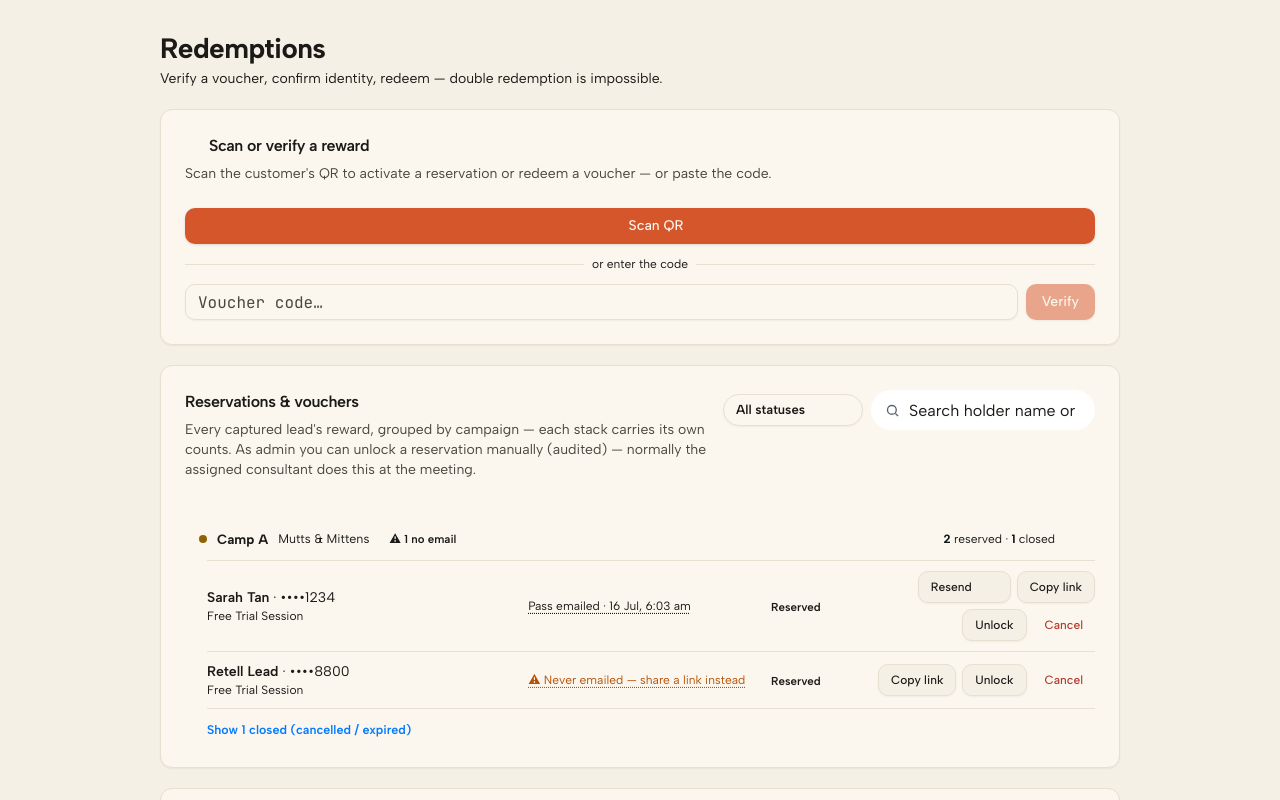
RedemptionsPage campaign stacks + delivery truth › collapses cancelled/expired rows behind the per-stack closed link
Expected: the text "Sarah Tan" is shown, [207,589,269,606]
Expected: the text "Gone Lead" is not shown
Click the button "Show 1 closed (cancelled / expired)" at (309, 731), box [207,721,411,740]
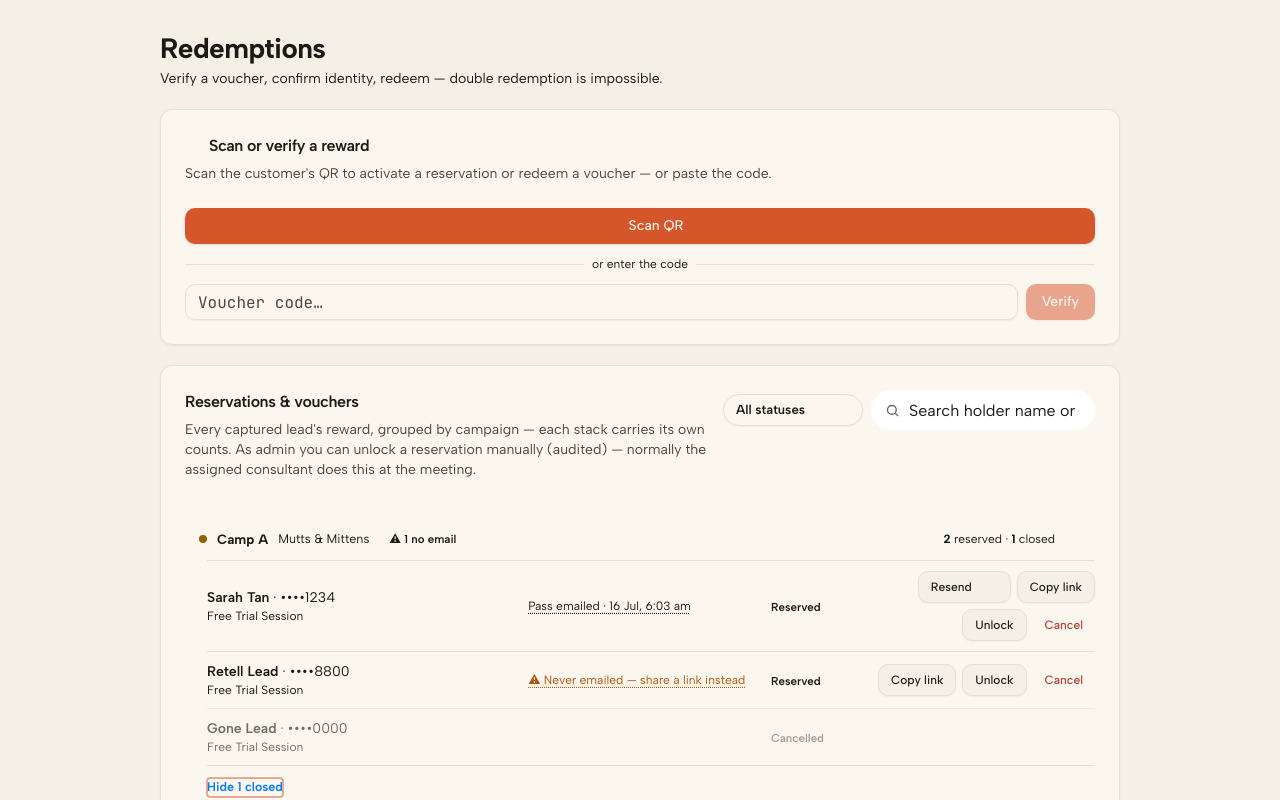
Expected: the text "Cancelled" is shown, [771,731,824,745]
Now the text "Gone Lead" is shown, box [207,720,277,737]
